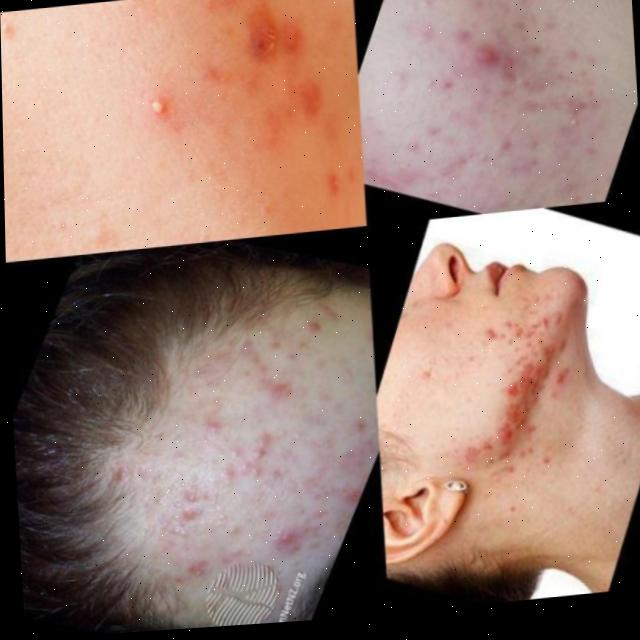Acne: (122, 384, 320, 577), (418, 0, 609, 178), (118, 0, 292, 175), (465, 291, 612, 464)
